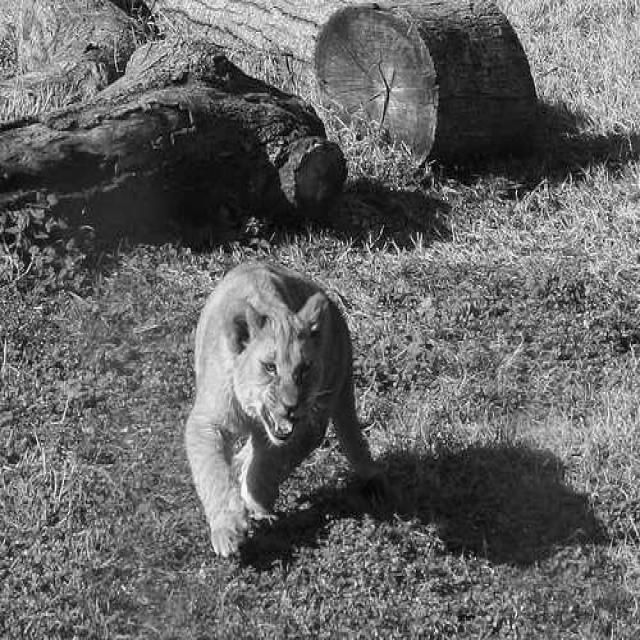Lion: (189, 242, 376, 544)
